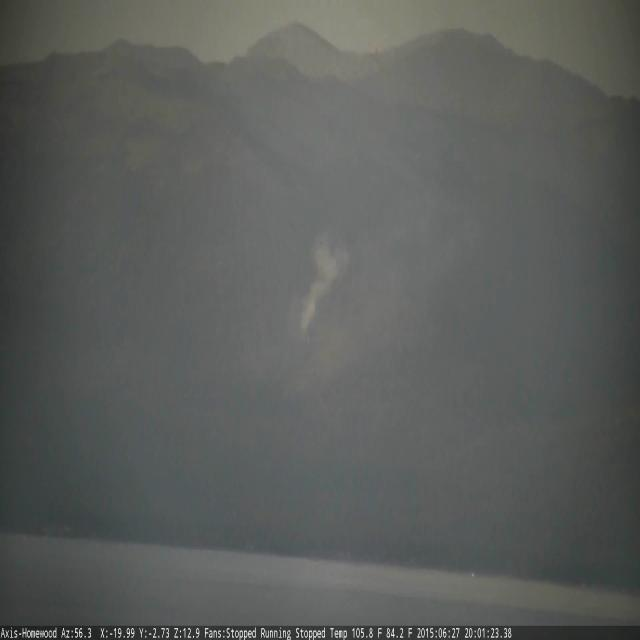smoke: (299, 228, 350, 336)
